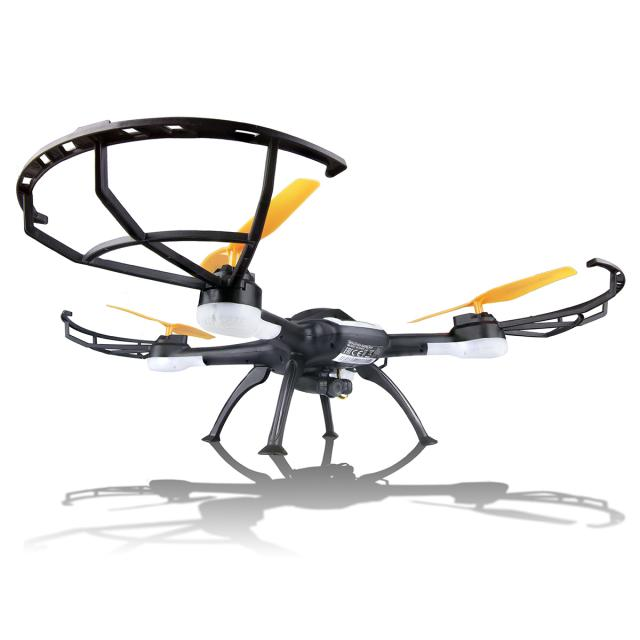drone: (4, 126, 634, 412)
